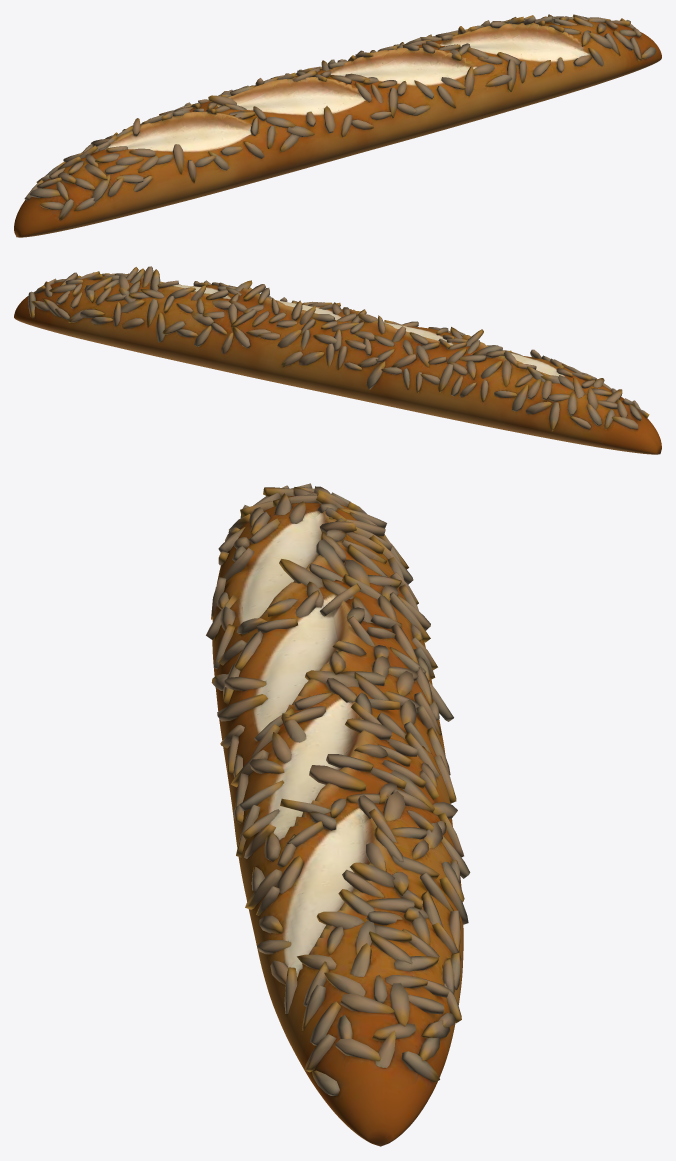
Rendered from baguette--sunflowerseed-seed.glb.
3 views of the same model, one above another, from view 1: azimuth 30°, elevation 25°; view 2: azimuth 150°, elevation 25°; view 3: azimuth 270°, elevation 25° (orthographic). The views are drawn at different scales.
Parts seen in each view (by area): view 1: baguette_sunflowerseed-seed; view 2: baguette_sunflowerseed-seed; view 3: baguette_sunflowerseed-seed.
Boxes of the visible parts, x1,y1,x2,y2 form: baguette_sunflowerseed-seed: [14, 14, 661, 237]; baguette_sunflowerseed-seed: [14, 266, 661, 454]; baguette_sunflowerseed-seed: [206, 483, 470, 1146].
Size of the model in its own units: 0.9982 by 0.123 by 0.1834.
Materials: 1 (1 with a texture image).
